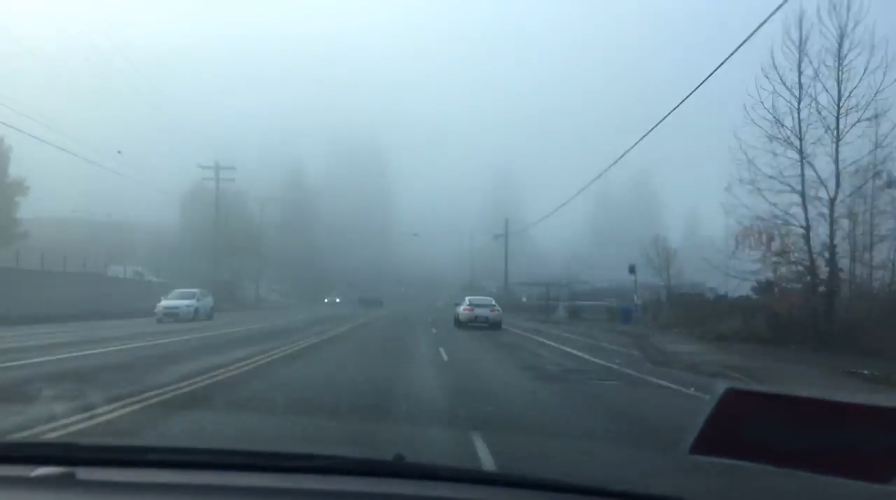car: (153, 285, 215, 322), (450, 292, 505, 327), (323, 290, 344, 305)
